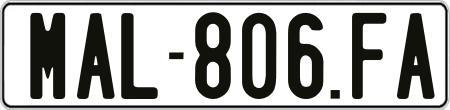0: (240, 13, 279, 100)
6: (287, 10, 325, 101)
8: (193, 11, 232, 103)
A: (76, 11, 117, 98), (394, 10, 433, 96)
F: (352, 11, 390, 101)
L: (120, 12, 160, 98)
M: (28, 11, 68, 103)
